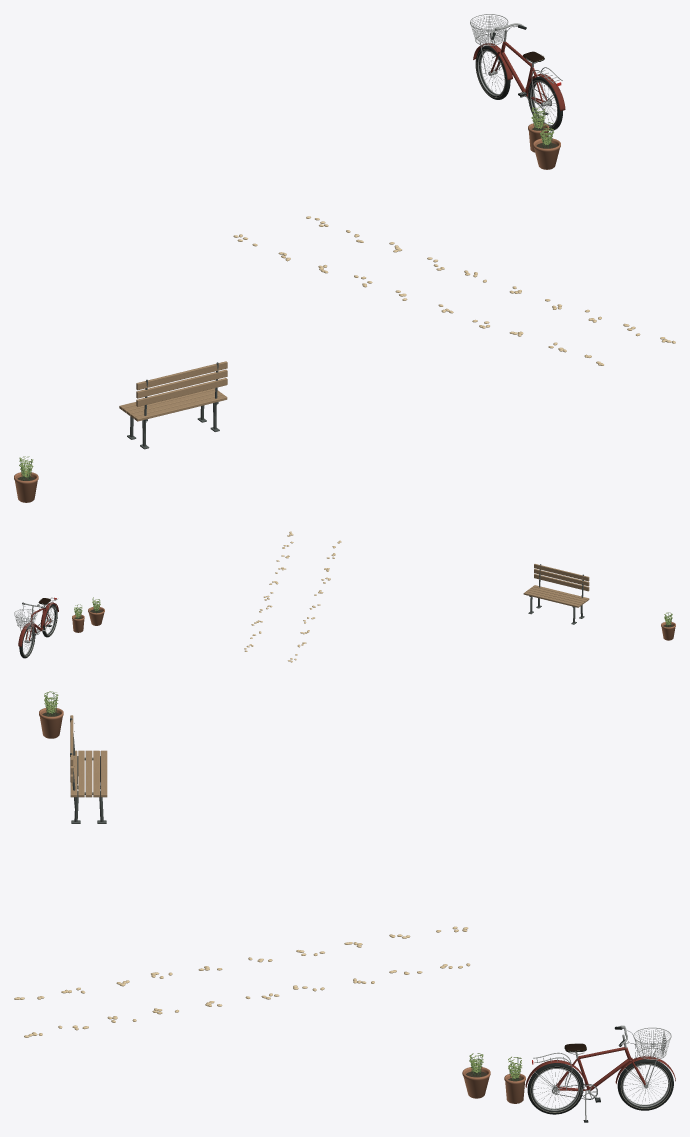
Rendered from house-v11.glb.
3 views of the same model, one above another, from view 1: azimuth 30°, elevation 25°; view 2: azimuth 150°, elevation 25°; view 3: azimuth 270°, elevation 25° (orthographic). The views are drawn at different scales.
Parts seen in each view (by area): view 1: v9_garden; view 2: v9_garden; view 3: v9_garden.
Part boxes in pixels (x1=…): v9_garden: x1=14, y1=14, x2=675, y2=502; v9_garden: x1=14, y1=531, x2=675, y2=662; v9_garden: x1=14, y1=691, x2=675, y2=1122.
Size of the model in its own units: 11.06 by 1.07 by 7.89.
Materials: 14 (4 with a texture image).
